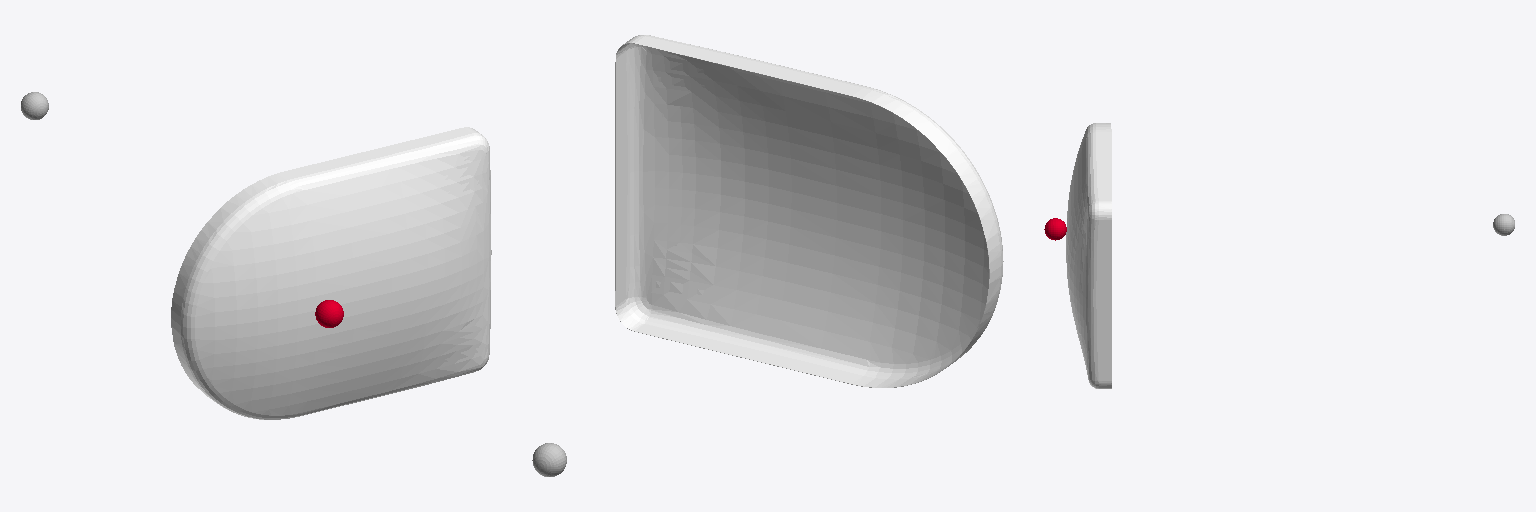
The robot description file, URDF, robot "universal_robot":
<?xml version="1.0"?>
<!--FOR GRIPPER, THERE IS NO LINK INERTIA DEFINED HERE-->
<robot name="universal_robot">

  <!-- Colors -->
  <material name="DarkGrey">
    <color rgba="0.2 0.2 0.2 1.0"/>
  </material>
  <material name="Grey">
    <color rgba="0.4 0.4 0.4 1.0"/>
  </material>
  <material name="Orange">
    <color rgba="1.0 0.423529411765 0.0392156862745 1.0"/>
  </material>
  <material name="Blue">
    <color rgba="0 0.1 1.0 1.0"/>
  </material>
  <material name="LightGrey">
    <color rgba="0.7 0.7 0.7 1.0"/>
  </material>
  <material name="Red">
    <color rgba="0.9 0 0.2 1.0"/>
  </material>
  <material name="TransparentRed">
    <color rgba="0.9 0 0.2 0.5"/>
  </material>
  <material name="Green">
    <color rgba="0 0.9 0.5 1.0"/>
  </material>
  <material name="Yellow">
    <color rgba="0.7 0.7 0 1.0"/>
  </material>
  <material name="LightBlue">
    <color rgba="0. 0.3 1.0 1.0"/>
  </material>
  <material name="Black">
    <color rgba="0.05 0.05 0.05 1.0"/>
  </material>
  <material name="White">
    <color rgba="1.0 1.0 1.0 1.0" />
  </material>



    <!-- connect arm to world -->
      <link name="world"/>
      <joint name="world_joint" type="fixed">
        <parent link="world"/>
        <child link="base_link"/>
        <origin rpy="0.0 0.0 -3.14" xyz="0.0 0.0 0.0"/>
      </joint>


      <link name="base_link">
        <visual>
          <geometry>
            <mesh filename="visual/base.obj"/>
          </geometry>
          <material name="LightGrey"/>
        </visual>
        <collision>
          <geometry>
            <mesh filename="collision/base.stl"/>
          </geometry>
        </collision>
        <inertial>
          <mass value="4.0"/>
          <origin rpy="0 0 0" xyz="0.0 0.0 0.0"/>
          <inertia ixx="0.00443333156" ixy="0.0" ixz="0.0" iyy="0.00443333156" iyz="0.0" izz="0.0072"/>
        </inertial>
      </link>

      <joint name="base_joint" type="revolute">
        <parent link="base_link"/>
        <child link="shoulder_link"/>
        <origin rpy="0.0 0.0 0.0" xyz="0.0 0.0 0.089159"/>
        <axis xyz="0 0 1"/>
        <limit effort="150.0" lower="-100" upper="100" velocity="3.15"/>
        <dynamics damping="0.5" friction="0.0"/>
      </joint>

      <link name="shoulder_link">
        <visual>
          <geometry>
            <mesh filename="visual/shoulder.obj"/>
          </geometry>
          <material name="DarkGrey"/>
        </visual>
        <collision>
          <geometry>
            <mesh filename="collision/shoulder.stl"/>
          </geometry>
        </collision>
        <inertial>
          <mass value="3.7"/>
          <origin rpy="0 0 0" xyz="0.0 0.0 0.0"/>
          <inertia ixx="0.010267495893" ixy="0.0" ixz="0.0" iyy="0.010267495893" iyz="0.0" izz="0.00666"/>
        </inertial>
      </link>

      <joint name="shoulder_joint" type="revolute">
        <parent link="shoulder_link"/>
        <child link="upper_arm_link"/>
        <origin rpy="0.0 1.57079632679 0.0" xyz="0.0 0.13585 0.0"/>
        <axis xyz="0 1 0"/>
        <limit effort="150.0" lower="-100" upper="100" velocity="3.15"/>
        <dynamics damping="0.5" friction="0.0"/>
      </joint>

      <link name="upper_arm_link">
        <visual>
          <geometry>
            <mesh filename="visual/upperarm.obj"/>
          </geometry>
          <material name="LightGrey"/>
        </visual>
        <collision>
          <geometry>
            <mesh filename="collision/upperarm.stl"/>
          </geometry>
        </collision>
        <inertial>
          <mass value="8.393"/>
          <origin rpy="0 0 0" xyz="0.0 0.0 0.28"/>
          <inertia ixx="0.22689067591" ixy="0.0" ixz="0.0" iyy="0.22689067591" iyz="0.0" izz="0.0151074"/>
        </inertial>
      </link>

      <joint name="elbow_joint" type="revolute">
        <parent link="upper_arm_link"/>
        <child link="forearm_link"/>
        <origin rpy="0.0 0.0 0.0" xyz="0.0 -0.1197 0.425"/>
        <axis xyz="0 1 0"/>
        <limit effort="150.0" lower="-100" upper="100" velocity="3.15"/>
        <dynamics damping="0.5" friction="0.0"/>
      </joint>

      <link name="forearm_link">
        <visual>
          <geometry>
            <mesh filename="visual/forearm.obj"/>
          </geometry>
          <material name="DarkGrey"/>
        </visual>
        <collision>
          <geometry>
            <mesh filename="collision/forearm.stl"/>
          </geometry>
        </collision>
        <inertial>
          <mass value="2.275"/>
          <origin rpy="0 0 0" xyz="0.0 0.0 0.25"/>
          <inertia ixx="0.049443313556" ixy="0.0" ixz="0.0" iyy="0.049443313556" iyz="0.0" izz="0.004095"/>
        </inertial>
      </link>

      <joint name="wrist_1_joint" type="revolute">
        <parent link="forearm_link"/>
        <child link="wrist_1_link"/>
        <origin rpy="0.0 1.57079632679 0.0" xyz="0.0 0.0 0.39225"/>
        <axis xyz="0 1 0"/>
        <limit effort="28.0" lower="-100" upper="100" velocity="3.2"/>
        <dynamics damping="0.5" friction="0.0"/>
      </joint>

      <link name="wrist_1_link">
        <visual>
          <geometry>
            <mesh filename="visual/wrist1.obj"/>
          </geometry>
          <material name="LightGrey"/>
        </visual>
        <collision>
          <geometry>
            <mesh filename="collision/wrist1.stl"/>
          </geometry>
        </collision>
        <inertial>
          <mass value="1.219"/>
          <origin rpy="0 0 0" xyz="0.0 0.0 0.0"/>
          <inertia ixx="0.111172755531" ixy="0.0" ixz="0.0" iyy="0.111172755531" iyz="0.0" izz="0.21942"/>
        </inertial>
      </link>

      <joint name="wrist_2_joint" type="revolute">
        <parent link="wrist_1_link"/>
        <child link="wrist_2_link"/>
        <origin rpy="0.0 0.0 0.0" xyz="0.0 0.093 0.0"/>
        <axis xyz="0 0 1"/>
        <limit effort="28.0" lower="-100" upper="100" velocity="3.2"/>
        <dynamics damping="0.5" friction="0.0"/>
      </joint>

      <link name="wrist_2_link">
        <visual>
          <geometry>
            <mesh filename="visual/wrist2.obj"/>
          </geometry>
          <material name="DarkGrey"/>
        </visual>
        <collision>
          <geometry>
            <mesh filename="collision/wrist2.stl"/>
          </geometry>
        </collision>
        <inertial>
          <mass value="1.219"/>
          <origin rpy="0 0 0" xyz="0.0 0.0 0.0"/>
          <inertia ixx="0.111172755531" ixy="0.0" ixz="0.0" iyy="0.111172755531" iyz="0.0" izz="0.21942"/>
        </inertial>
      </link>

      <joint name="wrist_3_joint" type="revolute">
        <parent link="wrist_2_link"/>
        <child link="wrist_3_link"/>
        <origin rpy="0.0 0.0 0.0" xyz="0.0 0.0 0.09465"/>
        <axis xyz="0 1 0"/>
        <limit effort="28.0" lower="-100" upper="100" velocity="3.2"/>
        <dynamics damping="0.5" friction="0.0"/>
      </joint>

      <link name="wrist_3_link">
        <visual>
          <geometry>
            <mesh filename="visual/wrist3.obj"/>
          </geometry>
           <material name="whitish">
            <color rgba="0.8 0.8 0.8 1.0"/>
          </material>
        </visual>
        <collision>
          <geometry>
            <mesh filename="collision/wrist3.stl"/>
          </geometry>
        </collision>
        <inertial>
          <mass value="0.1879"/>
          <origin rpy="0 0 0" xyz="0.0 0.0 0.0"/>
          <inertia ixx="0.0171364731454" ixy="0.0" ixz="0.0" iyy="0.0171364731454" iyz="0.0" izz="0.033822"/>
        </inertial>
      </link>

      <!-- End Effector -->

      <joint name="ee_joint" type="fixed">
        <parent link="wrist_3_link"/>
        <child link="ee_link"/>
        <origin rpy="1.57 3.14 0.0" xyz="0.0 0.0823 0.0"/>
      </joint>

      <link name="ee_link">
        <visual>
          <origin rpy="0 0 0" xyz="0 0 0"/>
          <geometry>
            <sphere radius="0.001"/>
          </geometry>
           <material name="whitish">
            <color rgba="0.8 0.8 0.8 1.0"/>
          </material>
        </visual>
        <collision>
          <geometry>
            <sphere radius="0.001"/>
          </geometry>
          <origin rpy="0 0 0" xyz="0.0 0 0"/>
        </collision>
        <inertial>
          <mass value="0.0"/>
          <origin rpy="-3.14 0.0 1.57" xyz="0.0 0.0 0.0"/>
          <inertia ixx="0.001" ixy="0.0" ixz="0.0" iyy="0.001" iyz="0.0" izz="0.001"/>
        </inertial>
      </link>

      <!-- TacTip -->


  <link
    name="digit_body_link">
    <inertial>
      <origin
        xyz="0.00443338071044421 -0.0140914049333968 4.96453152977634E-09+0.035"
        rpy="0 0 0" />
      <mass
        value="0.0077837104153161" />
      <inertia
        ixx="7.77176839696665E-07"
        ixy="-5.52554519832781E-09"
        ixz="-2.21347841658254E-13"
        iyy="1.5788930001559E-06"
        iyz="-8.96409493368731E-14"
        izz="1.05613167218354E-06" />
    </inertial>
    <visual>
      <origin
        xyz="0 0 0.035"
        rpy="0 0 0" />
      <geometry>
        <mesh
          filename="../digit/standard_digit/digit_asmb/meshes/digit_body.STL" />
      </geometry>
      <material
        name="digit_body">
        <color
          rgba="0.0 0.0 0.0 1" />
      </material>
    </visual>
    <collision>
      <origin
        xyz="0 0 0.035"
        rpy="0 0 0" />
      <geometry>
        <mesh
          filename="../digit/standard_digit/digit_asmb/meshes/digit_body.STL" />
      </geometry>
    </collision>
  </link>


      <joint name="tactip_ee_joint" type="fixed">
        <parent link="ee_link"/>
        <child link="digit_body_link"/>
        <origin rpy="-3.14 0.0 3.14" xyz="0.0 0.0 0.0"/>
      </joint>

  <link
    name="digit_tip_link">
    <inertial>
      <origin
        xyz="-2.15568578500849E-07 0.00554133274527847 -0.00576051345741577-0.035"
        rpy="0 0 0" />
      <mass
        value="0.00130411151086353" />
      <inertia
        ixx="5.48284140746448E-08"
        ixy="-4.02703926962539E-12"
        ixz="-5.29135712007007E-14"
        iyy="3.03790231207661E-08"
        iyz="-1.56642204167579E-10"
        izz="8.26200689636922E-08" />
    </inertial>
    <visual>
      <origin
        xyz="0 0 -0.035"
        rpy="0 0 0" />
      <geometry>
        <mesh
          filename="../digit/standard_digit/digit_asmb_hollow/meshes/digit_core.STL" scale="1.0 1.0 1.0"/>
      </geometry>
      <material
        name="digit_skin">
        <color
          rgba="1.0 1.0 1.0 1" />
      </material>
    </visual>
    <collision>
      <origin
        xyz="0 0 -0.035"
        rpy="0 0 0" />
      <geometry>
        <mesh
          filename="../digit/standard_digit/digit_asmb/meshes/digit_core.STL" />
      </geometry>
    </collision>
  </link>

  <joint
    name="digit_tip_to_body"
    type="fixed">
    <origin
      xyz="-0.00151521951809463 -1.36251105150219E-05 -0.00415"
      rpy="-3.14159265358979 0 1.5707963267949" />
    <parent
      link="digit_body_link" />
    <child
      link="digit_tip_link" />
    <axis
      xyz="0 0 0" />
  </joint>
      <!-- TCP -->
      <link name="tcp_link">
        <visual>
          <origin rpy="0 0 0" xyz="0 0 0"/>
          <geometry>
            <sphere radius="0.001"/>
          </geometry>
           <material name="TransparentRed"/>
        </visual>
        <inertial>
          <mass value="0.0"/>
          <origin rpy="0.0 0.0 1.57" xyz="0.0 0.0 0.0"/>
          <inertia ixx="1.0" ixy="0.0" ixz="0.0" iyy="1.0" iyz="0.0" izz="1.0"/>
        </inertial>
      </link>

      <joint name="tcp_joint" type="fixed">
        <parent link="digit_body_link"/>
        <child link="tcp_link"/>
        <origin rpy="0 0 0" xyz="0.0007 0.0 0.040"/>
      </joint>

<!-- link and joint for debug -->
<!-- 
  <link
    name="sq_link">
    <inertial>
      <origin
        xyz="-0.00535000000000003 0.00799999999999999 5.00000000005617E-06-0.035"
        rpy="0 0 0" />
      <mass
        value="1.59999999999993E-07" />
      <inertia
        ixx="5.33346666666645E-14"
        ixy="-1.34013559776601E-30"
        ixz="4.41903370583012E-33"
        iyy="5.33346666666645E-14"
        iyz="-3.65677197028787E-28"
        izz="1.06666666666662E-13" />
    </inertial>
    <visual>
      <origin
        xyz="0 0 -0.035"
        rpy="0 0 0" />
      <geometry>
        <mesh
          filename="../digit/standard_digit/digit_asmb_skin_with_marks/meshes/sq_link.STL" />
      </geometry>
      <material
        name="Green">
        <color
          rgba="0.9 0.9 0.9 1" />
      </material>
    </visual>
    <collision>
      <origin
        xyz="0 0 -0.035"
        rpy="0 0 0" />
      <geometry>
        <mesh
          filename="../digit/standard_digit/digit_asmb_skin_with_marks/meshes/sq_link.STL" />
      </geometry>
    </collision>
  </link>


  <joint
    name="skin_sq_joint"
    type="fixed">
    <origin
      xyz="-0.00535000000000005 0.0132650762017464 -0.00645000000000009"
      rpy="0 0 3.14159265358979" />
    <parent
      link="digit_tip_link" />
    <child
      link="sq_link" />
    <axis
      xyz="0 0 0" />
  </joint>
 -->

</robot>

--- Facts derived from the render (not from the file) ---
Views: 3 orthographic renders of the robot side by side, from view 1: azimuth 30°, elevation 25°; view 2: azimuth 150°, elevation 25°; view 3: azimuth 270°, elevation 25°.
Robot: universal_robot — 12 links, 11 joints (6 revolute, 5 fixed); root link world; default pose: all joints at 0.
Links seen in each view (by area): view 1: digit_tip_link, tcp_link, ee_link; view 2: digit_tip_link, ee_link; view 3: digit_tip_link.
Boxes of the visible links, left/top/right/bottom form: digit_tip_link: left=171, top=127, right=491, bottom=419; tcp_link: left=315, top=300, right=343, bottom=327; ee_link: left=21, top=92, right=48, bottom=119; digit_tip_link: left=615, top=35, right=1003, bottom=387; ee_link: left=532, top=443, right=566, bottom=476; digit_tip_link: left=1066, top=123, right=1111, bottom=388.
Bounding box of the posed robot: 0.025 × 0.042 × 0.0184 m (x, y, z).
Meshes: 9 distinct files referenced, 1 mesh visuals loaded (1 binary STL); not drawn: 8 (reference not matched to a file when rendering).